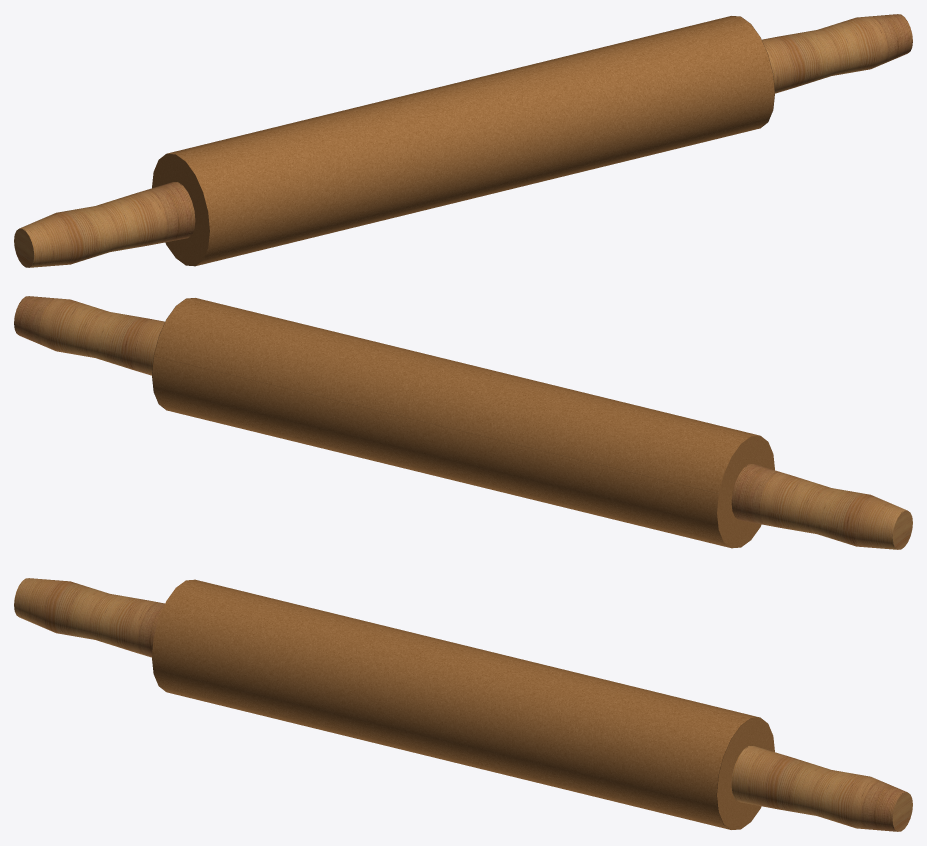
Rendered from RollingPin.FBX.
The picture shows the model from 3 angles, top to bottom: view 1: azimuth 30°, elevation 25°; view 2: azimuth 150°, elevation 25°; view 3: azimuth 330°, elevation 25°; orthographic projection.
Parts seen in each view (by area): view 1: RollingPin; view 2: RollingPin; view 3: RollingPin.
Boxes of the visible parts, left/top/right/bottom form: RollingPin: left=14, top=14, right=912, bottom=267; RollingPin: left=14, top=296, right=912, bottom=549; RollingPin: left=14, top=578, right=912, bottom=831.
Bounding box in the file's own units: 52.33 × 5.91 × 6.
1 material, 1 textured.
